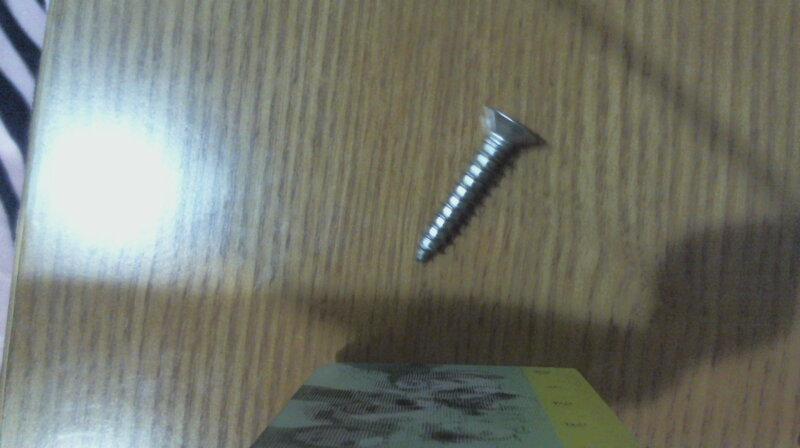S001: (411, 98, 552, 270)
